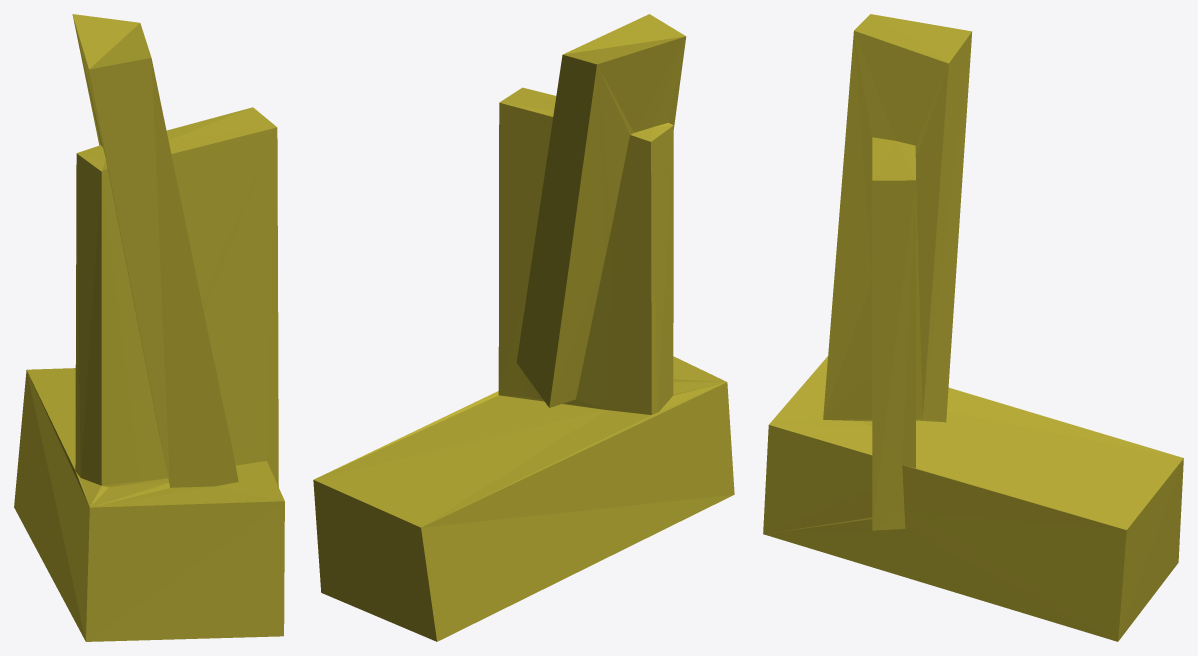
The picture shows the model from 3 angles, left to right: view 1: azimuth 30°, elevation 25°; view 2: azimuth 150°, elevation 25°; view 3: azimuth 270°, elevation 25°; orthographic projection. The views are drawn at different scales.
Visible parts, largest first — view 1: 418_Cube.1698; view 2: 418_Cube.1698; view 3: 418_Cube.1698.
Part boxes in pixels (x1,y1,x2,y2): 418_Cube.1698: (14, 14, 284, 641); 418_Cube.1698: (313, 14, 734, 641); 418_Cube.1698: (763, 14, 1183, 641).
Size of the model in its own units: 9.43 by 17.75 by 13.06.
